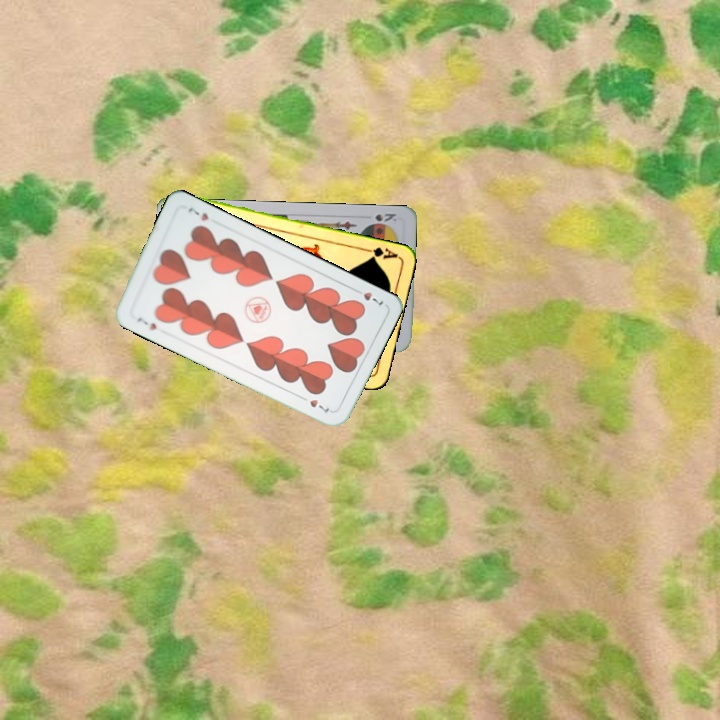GA: (360, 243, 400, 262)
H7: (349, 284, 386, 308), (133, 313, 159, 333)
SK: (371, 209, 399, 224)
